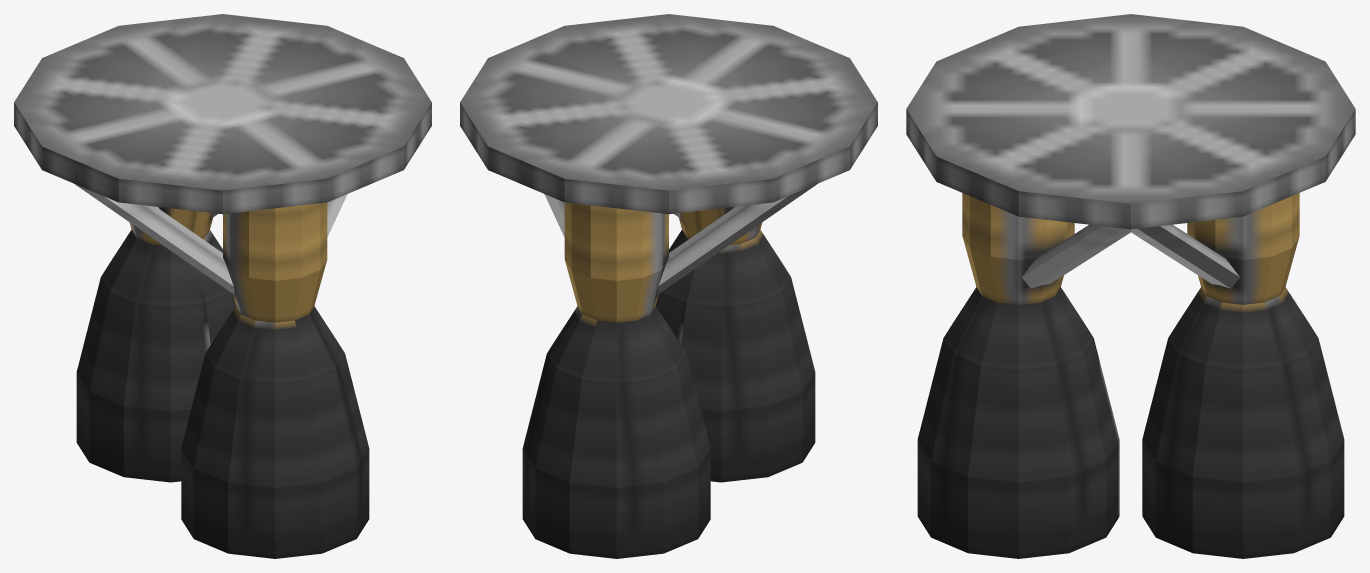
The model's file is mp_t_20_kerosene_dual.obj.
3 views of the same model, side by side, from view 1: azimuth 30°, elevation 25°; view 2: azimuth 150°, elevation 25°; view 3: azimuth 270°, elevation 25° (orthographic). The views are drawn at different scales.
Visible parts, largest first — view 1: Circle; view 2: Circle; view 3: Circle.
Part boxes in pixels (box(x1,y1,x2,y2)): Circle: box(14, 14, 431, 558); Circle: box(460, 14, 877, 558); Circle: box(906, 14, 1355, 558).
Bounding box in the file's own units: 2 × 2 × 2.
